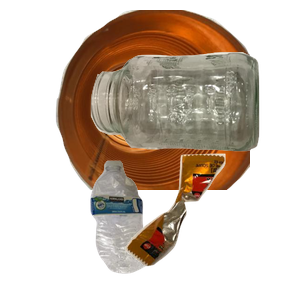glass: (88, 50, 300, 194)
metal: (53, 10, 293, 190)
plastic: (88, 158, 229, 300)
trash: (122, 151, 300, 300)
